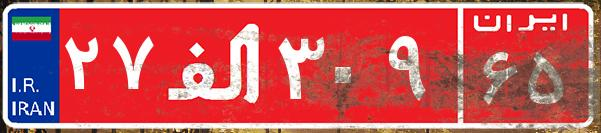0: (330, 28, 385, 110)
2: (57, 26, 110, 107)
3: (273, 28, 330, 110)
5: (525, 38, 570, 115)
6: (475, 38, 525, 113)
7: (110, 28, 158, 105)
9: (385, 28, 445, 110)
الف: (158, 15, 273, 115)
